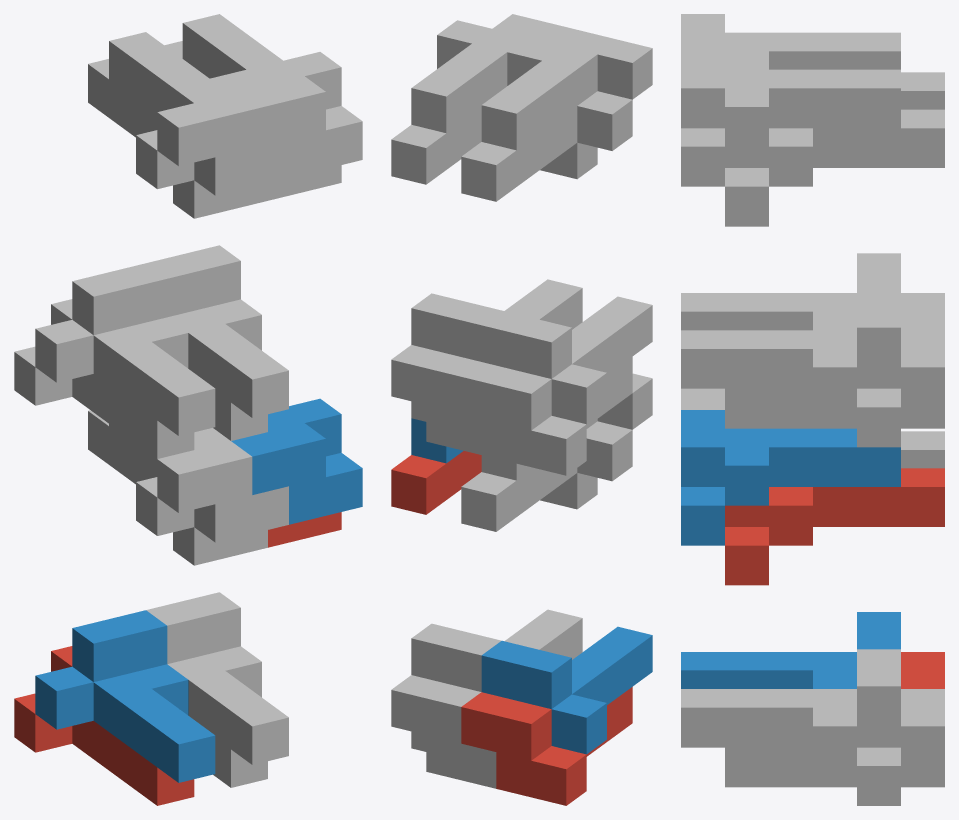
File: tiling.obj
3 views of the same model, side by side, from view 1: azimuth 30°, elevation 25°; view 2: azimuth 150°, elevation 25°; view 3: azimuth 270°, elevation 25° (orthographic). The views are drawn at different scales.
Visible parts, largest first — view 1: copy_1_domain_4, copy_1_domain_2, copy_2_domain_4, copy_2_domain_8, copy_1_domain_8, copy_1_domain_6, copy_2_domain_6, copy_2_domain_2, copy_2_domain_3, copy_2_domain_1, copy_1_domain_3, copy_1_domain_1 (+4 smaller); view 2: copy_1_domain_2, copy_1_domain_4, copy_2_domain_4, copy_1_domain_3, copy_1_domain_1, copy_2_domain_8, copy_2_domain_3, copy_2_domain_1, copy_1_domain_7, copy_1_domain_5, copy_1_domain_6, copy_1_domain_8 (+4 smaller); view 3: copy_2_domain_8, copy_2_domain_6, copy_1_domain_8, copy_1_domain_6, copy_2_domain_5, copy_2_domain_7, copy_1_domain_7, copy_1_domain_5, copy_1_domain_4, copy_2_domain_4, copy_1_domain_2, copy_1_domain_3 (+4 smaller).
Boxes of the visible parts, x1,y1,x2,y2 form: copy_1_domain_4: (35,263,215,435); copy_1_domain_2: (35,610,215,782); copy_2_domain_4: (109,32,288,195); copy_2_domain_8: (182,14,362,177); copy_1_domain_8: (146,245,288,417); copy_1_domain_6: (146,592,288,764); copy_2_domain_6: (231,398,362,524); copy_2_domain_2: (109,424,288,542); copy_2_domain_3: (88,59,267,218); copy_2_domain_1: (88,410,267,565); copy_1_domain_3: (14,299,194,458); copy_1_domain_1: (14,646,194,805); copy_1_domain_2: (481,626,652,754); copy_1_domain_4: (481,296,652,424); copy_2_domain_4: (481,31,652,150); copy_1_domain_3: (461,356,632,475); copy_1_domain_1: (461,687,632,805); copy_2_domain_8: (411,14,582,133); copy_2_domain_3: (461,91,632,201); copy_2_domain_1: (461,421,632,531); copy_1_domain_7: (391,345,496,458); copy_1_domain_5: (391,675,496,788); copy_1_domain_6: (411,609,582,691); copy_1_domain_8: (411,279,582,361); copy_2_domain_8: (681,51,900,186); copy_2_domain_6: (681,410,900,545); copy_1_domain_8: (681,290,900,407); copy_1_domain_6: (681,649,900,765); copy_2_domain_5: (725,468,944,585); copy_2_domain_7: (725,109,944,226); copy_1_domain_7: (725,330,944,447); copy_1_domain_5: (725,689,944,805); copy_1_domain_4: (681,253,900,330); copy_2_domain_4: (681,14,900,69); copy_1_domain_2: (681,612,900,688); copy_1_domain_3: (901,293,944,330).
Size of the model in its own units: 6 by 18 by 6.
